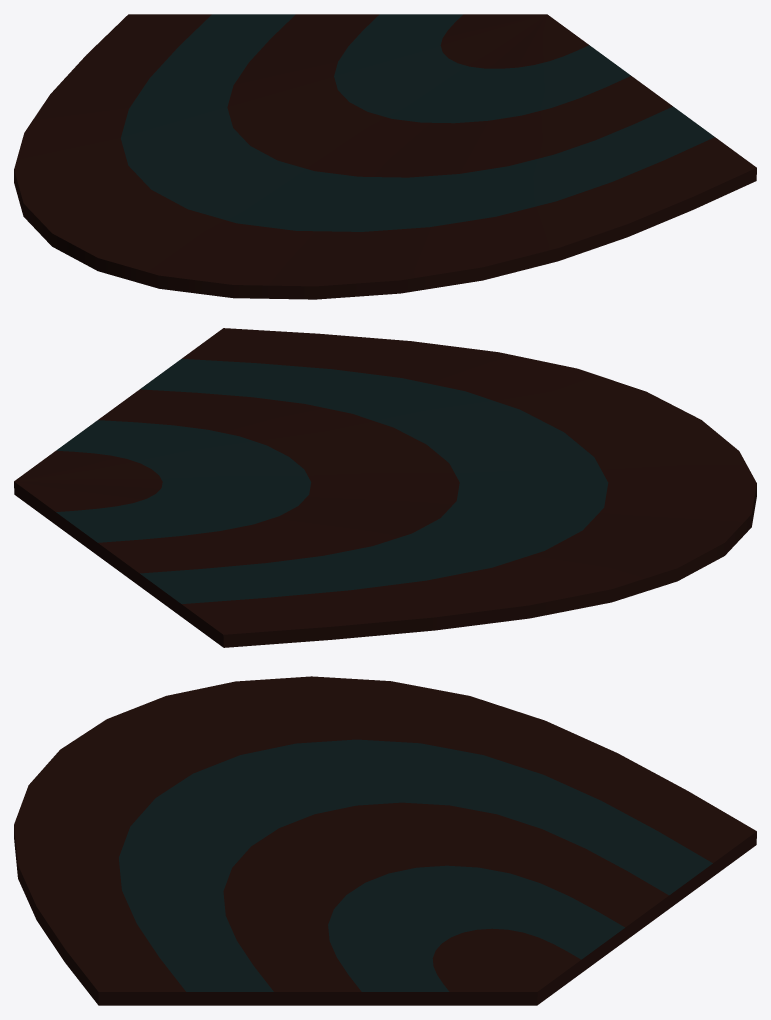
File: tracksharp_right1.fbx
The picture shows the model from 3 angles, top to bottom: view 1: azimuth 30°, elevation 25°; view 2: azimuth 150°, elevation 25°; view 3: azimuth 270°, elevation 25°; orthographic projection. The views are drawn at different scales.
Parts seen in each view (by area): view 1: sharp_right1; view 2: sharp_right1; view 3: sharp_right1.
Part boxes in pixels (<box>): sharp_right1: <box>14,14,756,299</box>; sharp_right1: <box>14,328,756,647</box>; sharp_right1: <box>14,676,756,1005</box>.
Bounding box in the file's own units: 480 × 15.3 × 489.
1 material, 1 textured.
